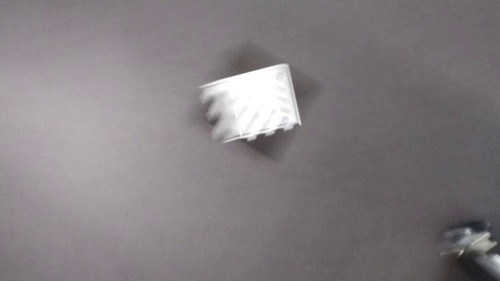misgoods: (197, 63, 311, 148)
